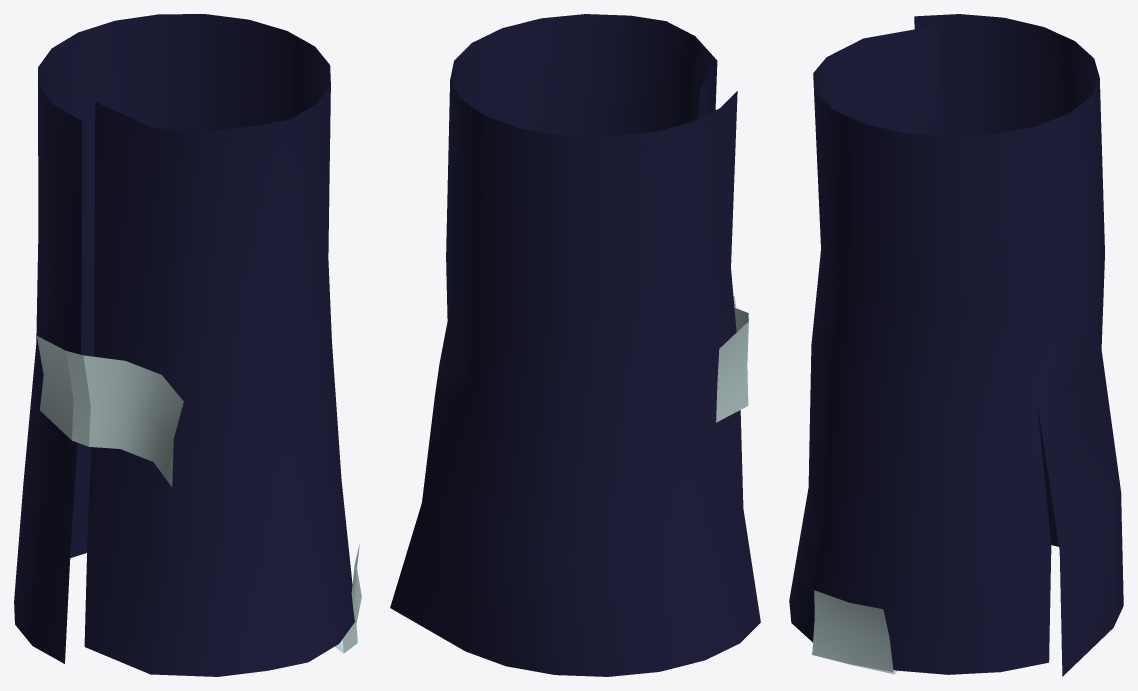
The model's file is SM_Tronc.FBX.
The picture shows the model from 3 angles, left to right: view 1: azimuth 30°, elevation 25°; view 2: azimuth 150°, elevation 25°; view 3: azimuth 270°, elevation 25°; orthographic projection.
Visible parts, largest first — view 1: SM_Tronc; view 2: SM_Tronc; view 3: SM_Tronc.
Boxes of the visible parts, x1,y1,x2,y2 form: SM_Tronc: (14,14,361,676); SM_Tronc: (390,14,760,676); SM_Tronc: (789,14,1123,676).
Size of what is drawn, in the model's own units: 118 by 206 by 115.
